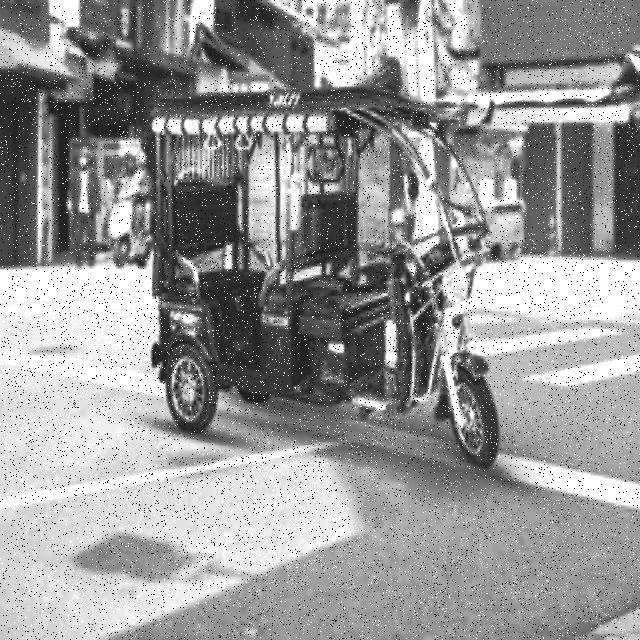Toto: (143, 77, 499, 477)
